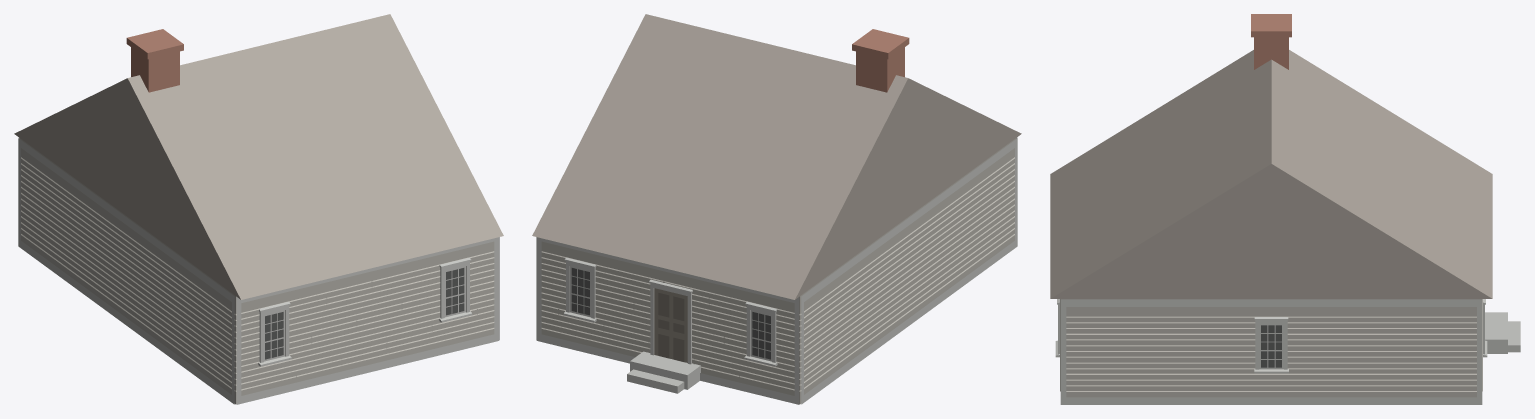
Rendered from recon_1835_north_d5_026__inferred_1835.glb.
3 renders of one model, left to right at view 1: azimuth 30°, elevation 25°; view 2: azimuth 150°, elevation 25°; view 3: azimuth 270°, elevation 25°, orthographic. The views are drawn at different scales.
Visible parts, largest first — view 1: recon_1835_north_d5_026__inferred_1835; view 2: recon_1835_north_d5_026__inferred_1835; view 3: recon_1835_north_d5_026__inferred_1835.
Boxes of the visible parts, x1,y1,x2,y2 form: recon_1835_north_d5_026__inferred_1835: (14,14,503,404); recon_1835_north_d5_026__inferred_1835: (532,14,1021,404); recon_1835_north_d5_026__inferred_1835: (1050,14,1520,404).
Bounding box in the file's own units: 7.24 × 7.15 × 11.28.
